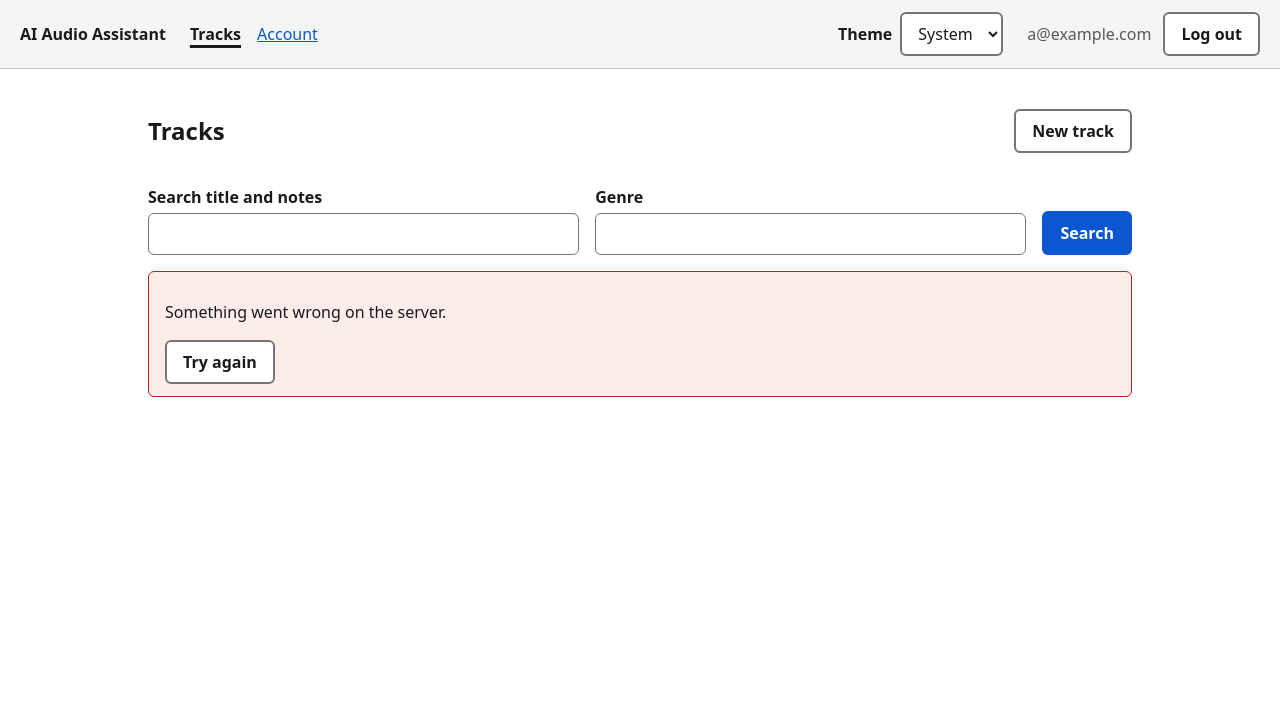
Test: the list › shows an error with a retry button, then recovers
Expected: the message shows "Something went wrong on the server.", [165, 301, 446, 323]
Click the button "Try again" at (220, 362), box [165, 340, 275, 384]
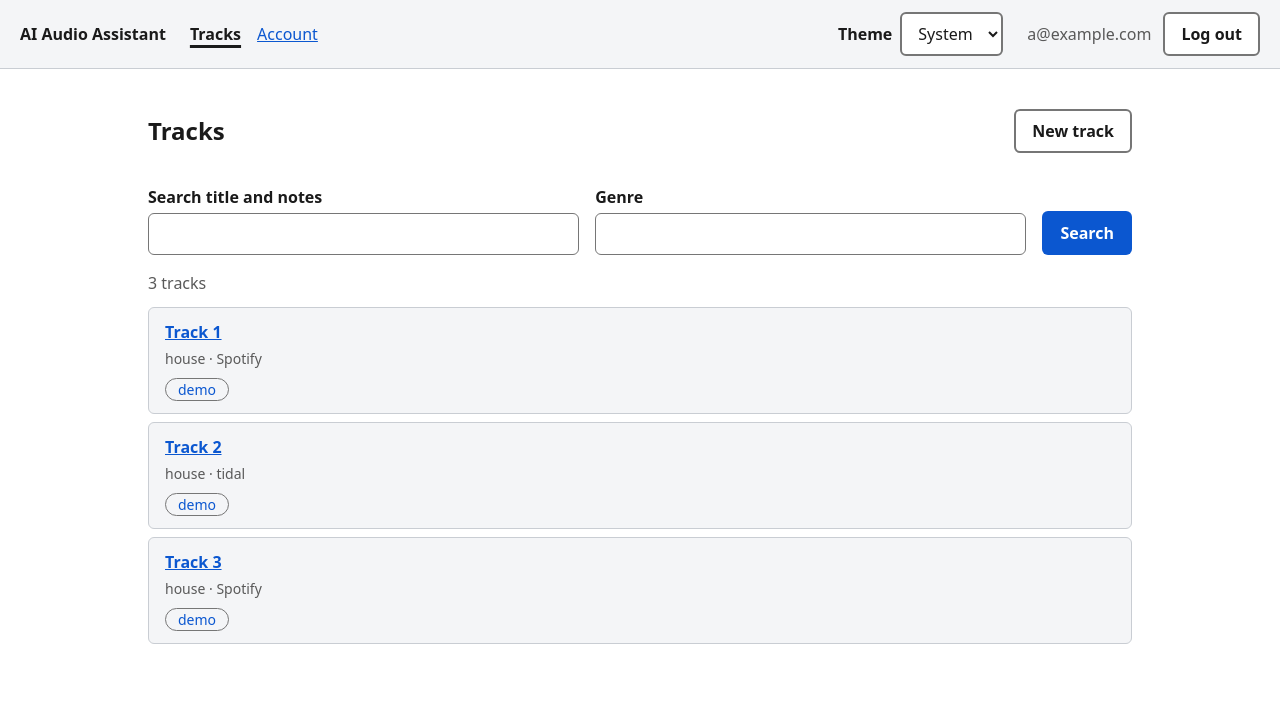
Now the link "Track 1" is shown, box [165, 321, 222, 343]
